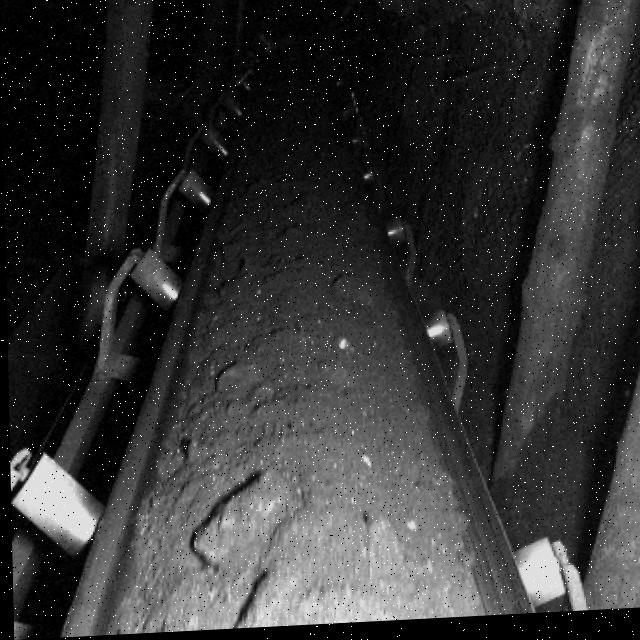large_sized_coal: (191, 476, 288, 566), (355, 509, 410, 587), (229, 569, 296, 631), (216, 362, 272, 416)
